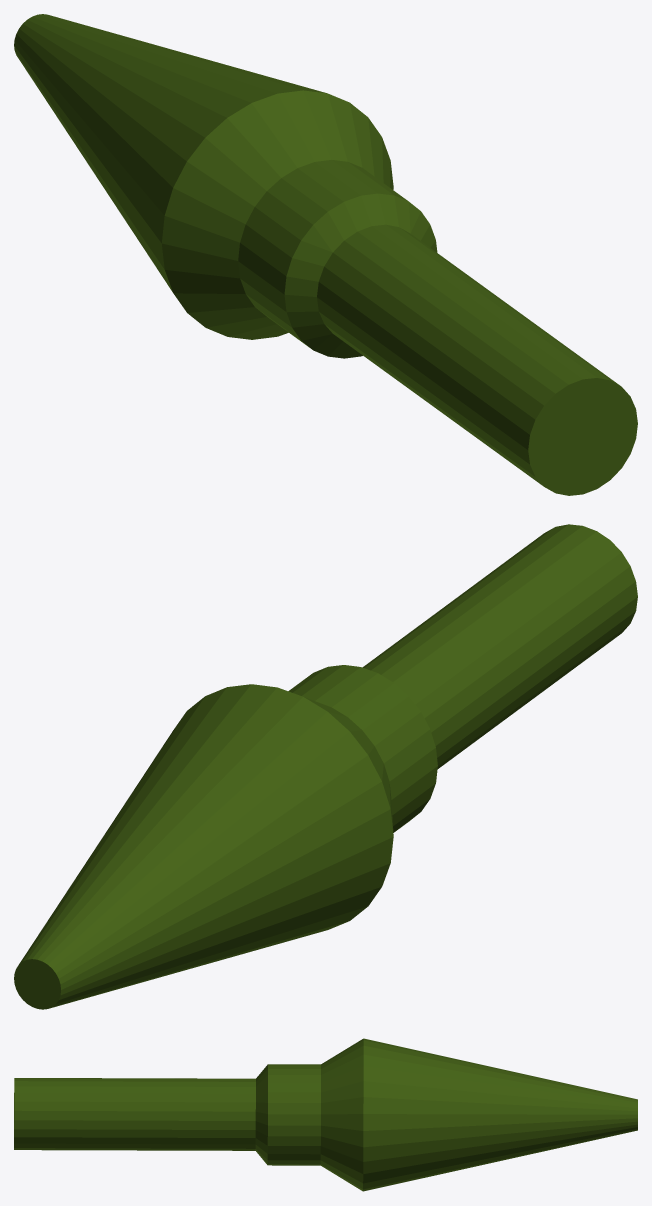
The model's file is Weapon-Projectile-Barrel.fbx.
The picture shows the model from 3 angles, top to bottom: view 1: azimuth 30°, elevation 25°; view 2: azimuth 150°, elevation 25°; view 3: azimuth 270°, elevation 25°; orthographic projection. The views are drawn at different scales.
Parts seen in each view (by area): view 1: Weapon-Projectile-Barrel; view 2: Weapon-Projectile-Barrel; view 3: Weapon-Projectile-Barrel.
Boxes of the visible parts, x1,y1,x2,y2 form: Weapon-Projectile-Barrel: (14, 14, 637, 495); Weapon-Projectile-Barrel: (14, 524, 637, 1009); Weapon-Projectile-Barrel: (14, 1038, 637, 1191).
Bounding box in the file's own units: 253 × 253 × 1033.
